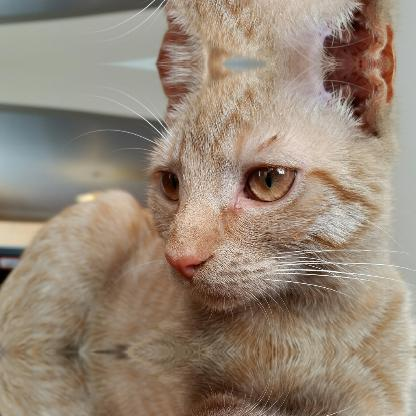Cat: (0, 62, 415, 350), (0, 0, 415, 64), (0, 352, 415, 415)
